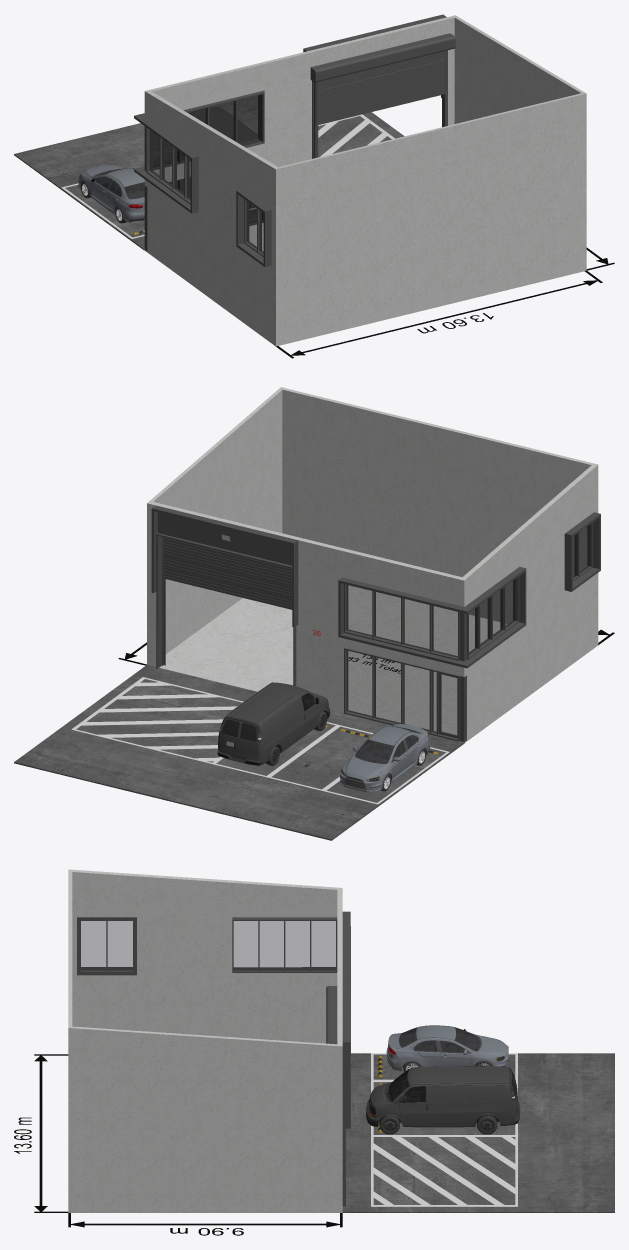
The model's file is Without_Mezzanine.glb.
3 renders of one model, top to bottom at view 1: azimuth 30°, elevation 25°; view 2: azimuth 150°, elevation 25°; view 3: azimuth 270°, elevation 25°, orthographic. The views are drawn at different scales.
Parts seen in each view (by area): view 1: Object1746169868.002, Shape113.002, Box2131647078.003, Object1746169869.002, Box2131637733.002, Segment 004.002, Rectangle2140.003, AM132_031_Collapsed.002, Object1746169150.002, Rectangle2141.002, Rectangle2139.002, AM132_020_06.002 (+3 smaller); view 2: Object1746169868.002, Box2131647078.003, Shape113.002, Box2131637733.002, Shape114.002, Object1746169869.002, AM132_020_06.002, Segment 004.002, Rectangle2140.003, AM132_031_Collapsed.002, Layer:023.003, Component#120 [25525]110.002 (+4 smaller); view 3: Object1746169869.002, Box2131647078.003, Shape113.002, AM132_020_06.002, Rectangle2140.003, Box2131637733.002, AM132_031_Collapsed.002, Layer:023.003, Rectangle2141.002, Object1746169868.002, Component#121 [25528]110.002, Rectangle2139.002 (+3 smaller).
Part boxes in pixels (x1=…): Object1746169868.002: x1=279, y1=92, x2=586, y2=345; Shape113.002: x1=144, y1=15, x2=457, y2=346; Box2131647078.003: x1=14, y1=95, x2=404, y2=250; Object1746169869.002: x1=454, y1=17, x2=584, y2=123; Box2131637733.002: x1=134, y1=91, x2=264, y2=225; Segment 004.002: x1=315, y1=51, x2=444, y2=125; Rectangle2140.003: x1=144, y1=143, x2=264, y2=287; AM132_031_Collapsed.002: x1=78, y1=165, x2=144, y2=223; Object1746169150.002: x1=310, y1=33, x2=455, y2=82; Rectangle2141.002: x1=236, y1=189, x2=271, y2=266; Rectangle2139.002: x1=144, y1=82, x2=264, y2=154; AM132_020_06.002: x1=181, y1=107, x2=257, y2=155; Object1746169868.002: x1=279, y1=387, x2=593, y2=623; Box2131647078.003: x1=14, y1=665, x2=464, y2=840; Shape113.002: x1=147, y1=463, x2=598, y2=712; Box2131637733.002: x1=338, y1=566, x2=526, y2=741; Shape114.002: x1=159, y1=585, x2=518, y2=742; Object1746169869.002: x1=150, y1=389, x2=282, y2=651; AM132_020_06.002: x1=217, y1=682, x2=329, y2=765; Segment 004.002: x1=163, y1=537, x2=292, y2=609; Rectangle2140.003: x1=344, y1=631, x2=518, y2=739; AM132_031_Collapsed.002: x1=339, y1=724, x2=430, y2=792; Layer:023.003: x1=71, y1=677, x2=243, y2=764; Component#120 [25525]110.002: x1=157, y1=512, x2=292, y2=565; Object1746169869.002: x1=72, y1=1026, x2=337, y2=1212; Box2131647078.003: x1=342, y1=1053, x2=614, y2=1212; Shape113.002: x1=68, y1=869, x2=342, y2=1212; AM132_020_06.002: x1=365, y1=1066, x2=519, y2=1134; Rectangle2140.003: x1=232, y1=973, x2=337, y2=1043; Box2131637733.002: x1=232, y1=911, x2=350, y2=972; AM132_031_Collapsed.002: x1=386, y1=1025, x2=508, y2=1071; Layer:023.003: x1=371, y1=1135, x2=517, y2=1206; Rectangle2141.002: x1=77, y1=917, x2=136, y2=975; Object1746169868.002: x1=68, y1=871, x2=72, y2=1212; Component#121 [25528]110.002: x1=342, y1=970, x2=350, y2=1128; Rectangle2139.002: x1=232, y1=908, x2=337, y2=917.
Bounding box in the file's own units: 16.03 × 7.5 × 22.07.
59 materials, 11 textured.
